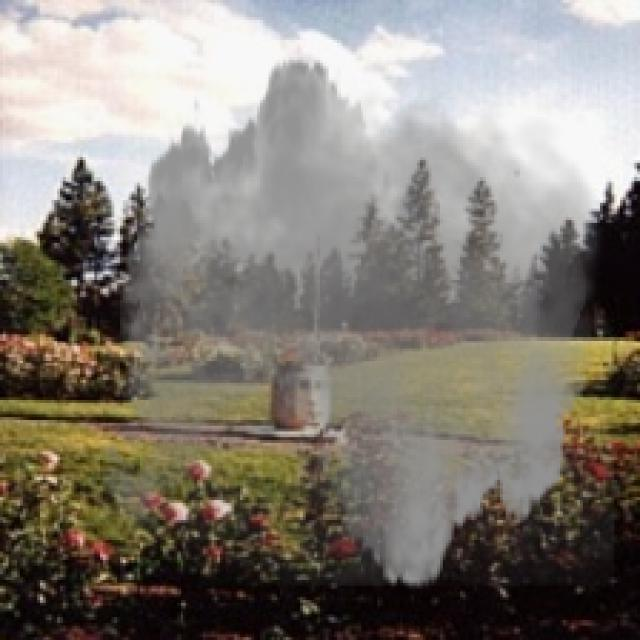Smoke: (82, 40, 614, 606)
